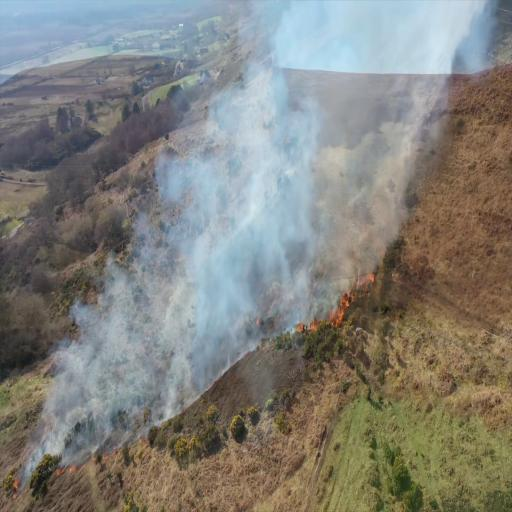smoke: (206, 186, 294, 336)
